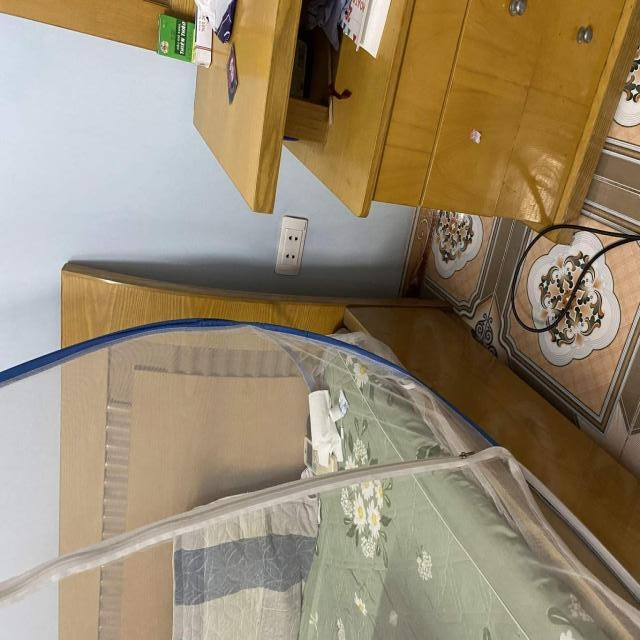outlet: (274, 216, 308, 276)
